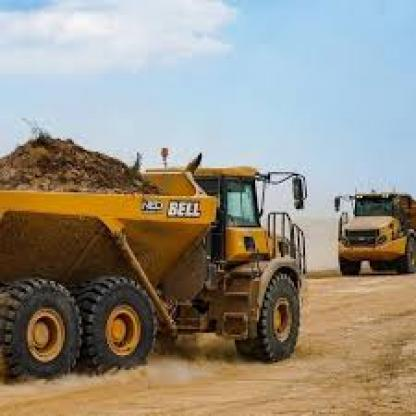dump_truck: (2, 120, 323, 383), (326, 174, 414, 298)
